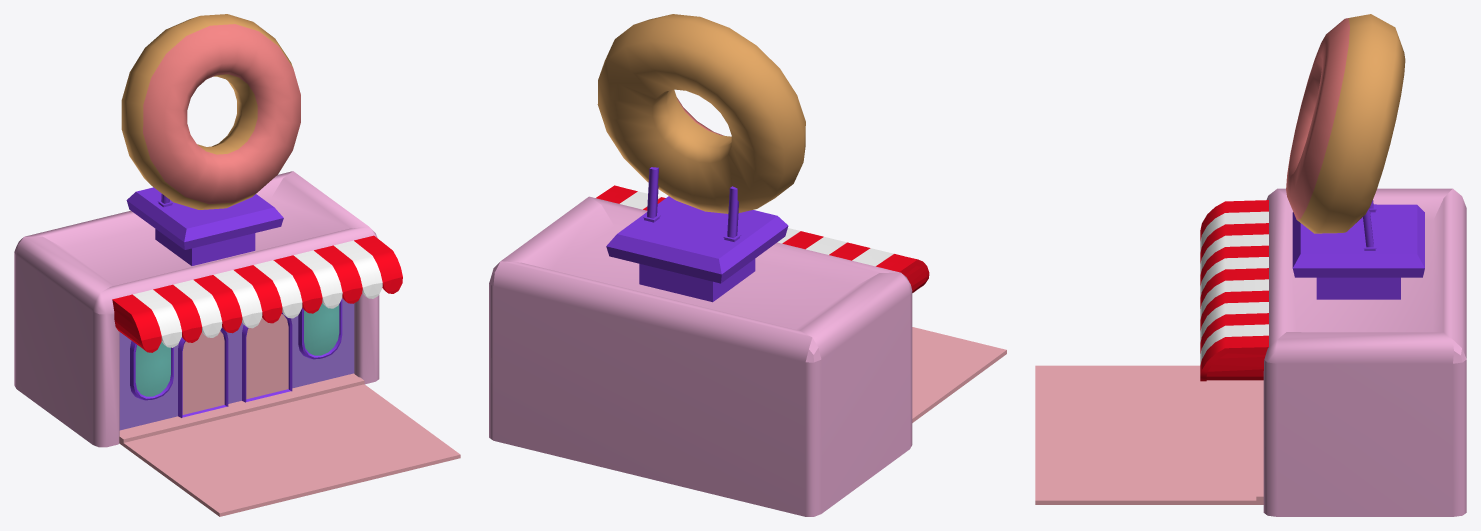
File: SM_Donats.fbx
3 views of the same model, side by side, from view 1: azimuth 30°, elevation 25°; view 2: azimuth 150°, elevation 25°; view 3: azimuth 270°, elevation 25° (orthographic). The views are drawn at different scales.
Visible parts, largest first — view 1: SM_Donatus; view 2: SM_Donatus; view 3: SM_Donatus.
Boxes of the visible parts, bbox=[...] form: SM_Donatus: bbox=[14, 14, 460, 516]; SM_Donatus: bbox=[489, 14, 1006, 516]; SM_Donatus: bbox=[1035, 14, 1466, 516].
Size of the model in its own units: 922 by 1122 by 1052.
